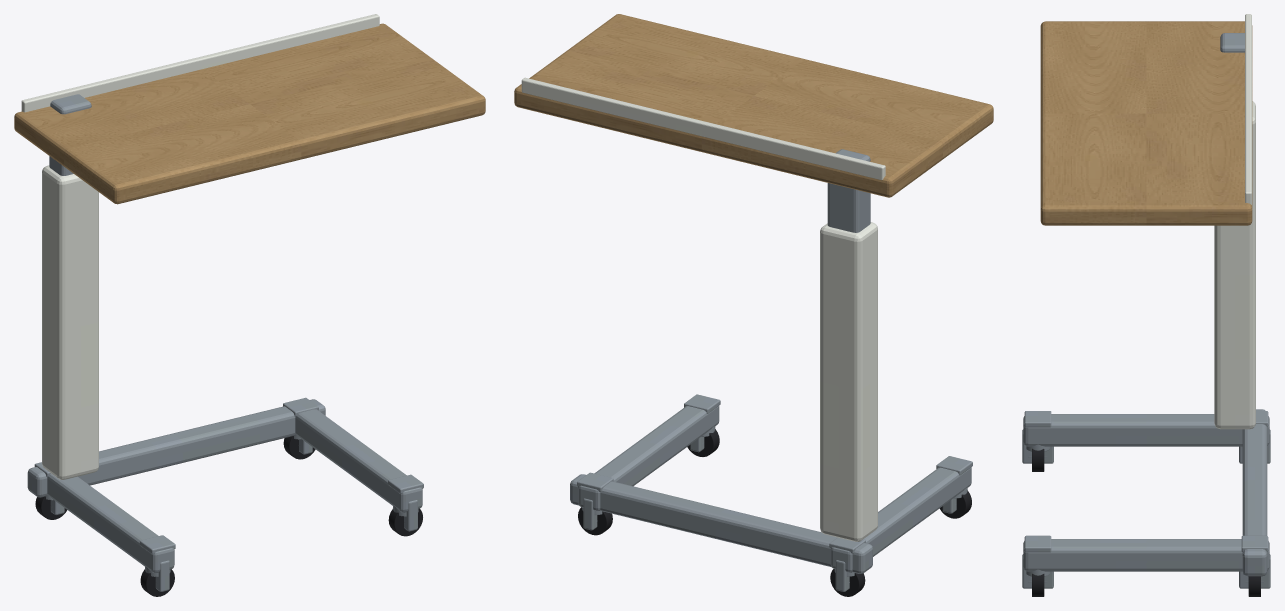
Rendered from height-adjustable-overbed-table.glb.
3 renders of one model, left to right at view 1: azimuth 30°, elevation 25°; view 2: azimuth 150°, elevation 25°; view 3: azimuth 270°, elevation 25°, orthographic. The views are drawn at different scales.
Parts seen in each view (by area): view 1: Overbed table top, Table outer lift column, Low U base rear, Top raised edge, Low U base leg.001, Low U base leg, Table telescoping column; view 2: Overbed table top, Table outer lift column, Low U base rear, Top raised edge, Low U base leg.001, Low U base leg, Table telescoping column; view 3: Overbed table top, Table outer lift column, Low U base leg.001, Low U base leg, Low U base rear, Top raised edge, Caster mounting plate.002, Table telescoping column, Caster mounting plate, Caster mounting plate.003, Caster fork.002, Caster fork.
Boxes of the visible parts, left/top/right/bottom form: Overbed table top: left=14, top=23, right=485, bottom=204; Table outer lift column: left=42, top=165, right=98, bottom=479; Low U base rear: left=27, top=399, right=325, bottom=497; Top raised edge: left=21, top=14, right=379, bottom=112; Low U base leg.001: left=295, top=409, right=422, bottom=512; Low U base leg: left=47, top=473, right=174, bottom=572; Table telescoping column: left=49, top=94, right=91, bottom=175; Overbed table top: left=514, top=14, right=993, bottom=197; Table outer lift column: left=820, top=222, right=877, bottom=541; Low U base rear: left=570, top=474, right=872, bottom=573; Top raised edge: left=521, top=77, right=885, bottom=180; Low U base leg.001: left=578, top=406, right=719, bottom=510; Low U base leg: left=830, top=467, right=971, bottom=572; Table telescoping column: left=827, top=149, right=870, bottom=232; Overbed table top: left=1040, top=21, right=1252, bottom=225; Table outer lift column: left=1214, top=101, right=1255, bottom=429; Low U base leg.001: left=1023, top=539, right=1269, bottom=571; Low U base leg: left=1023, top=414, right=1269, bottom=446; Low U base rear: left=1242, top=409, right=1267, bottom=576; Top raised edge: left=1245, top=14, right=1251, bottom=204; Caster mounting plate.002: left=1024, top=535, right=1051, bottom=552; Table telescoping column: left=1220, top=33, right=1244, bottom=52; Caster mounting plate: left=1024, top=411, right=1051, bottom=427; Caster mounting plate.003: left=1241, top=535, right=1268, bottom=552; Caster fork.002: left=1022, top=554, right=1053, bottom=588; Caster fork: left=1022, top=429, right=1053, bottom=463.
Bounding box in the file's own units: 0.9 × 0.986 × 0.504.
Materials: 5 (5 with a texture image).
